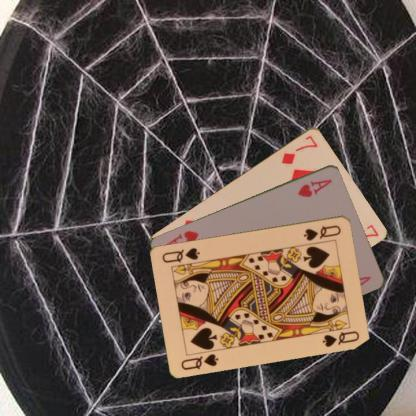7d: (278, 132, 319, 166)
Ah: (296, 176, 334, 198)
Qs: (301, 222, 343, 242), (178, 351, 220, 371)
